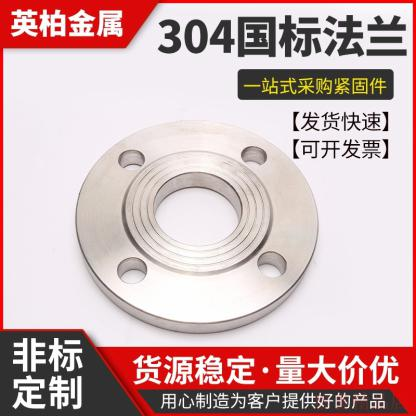FOD: (68, 116, 324, 334)
